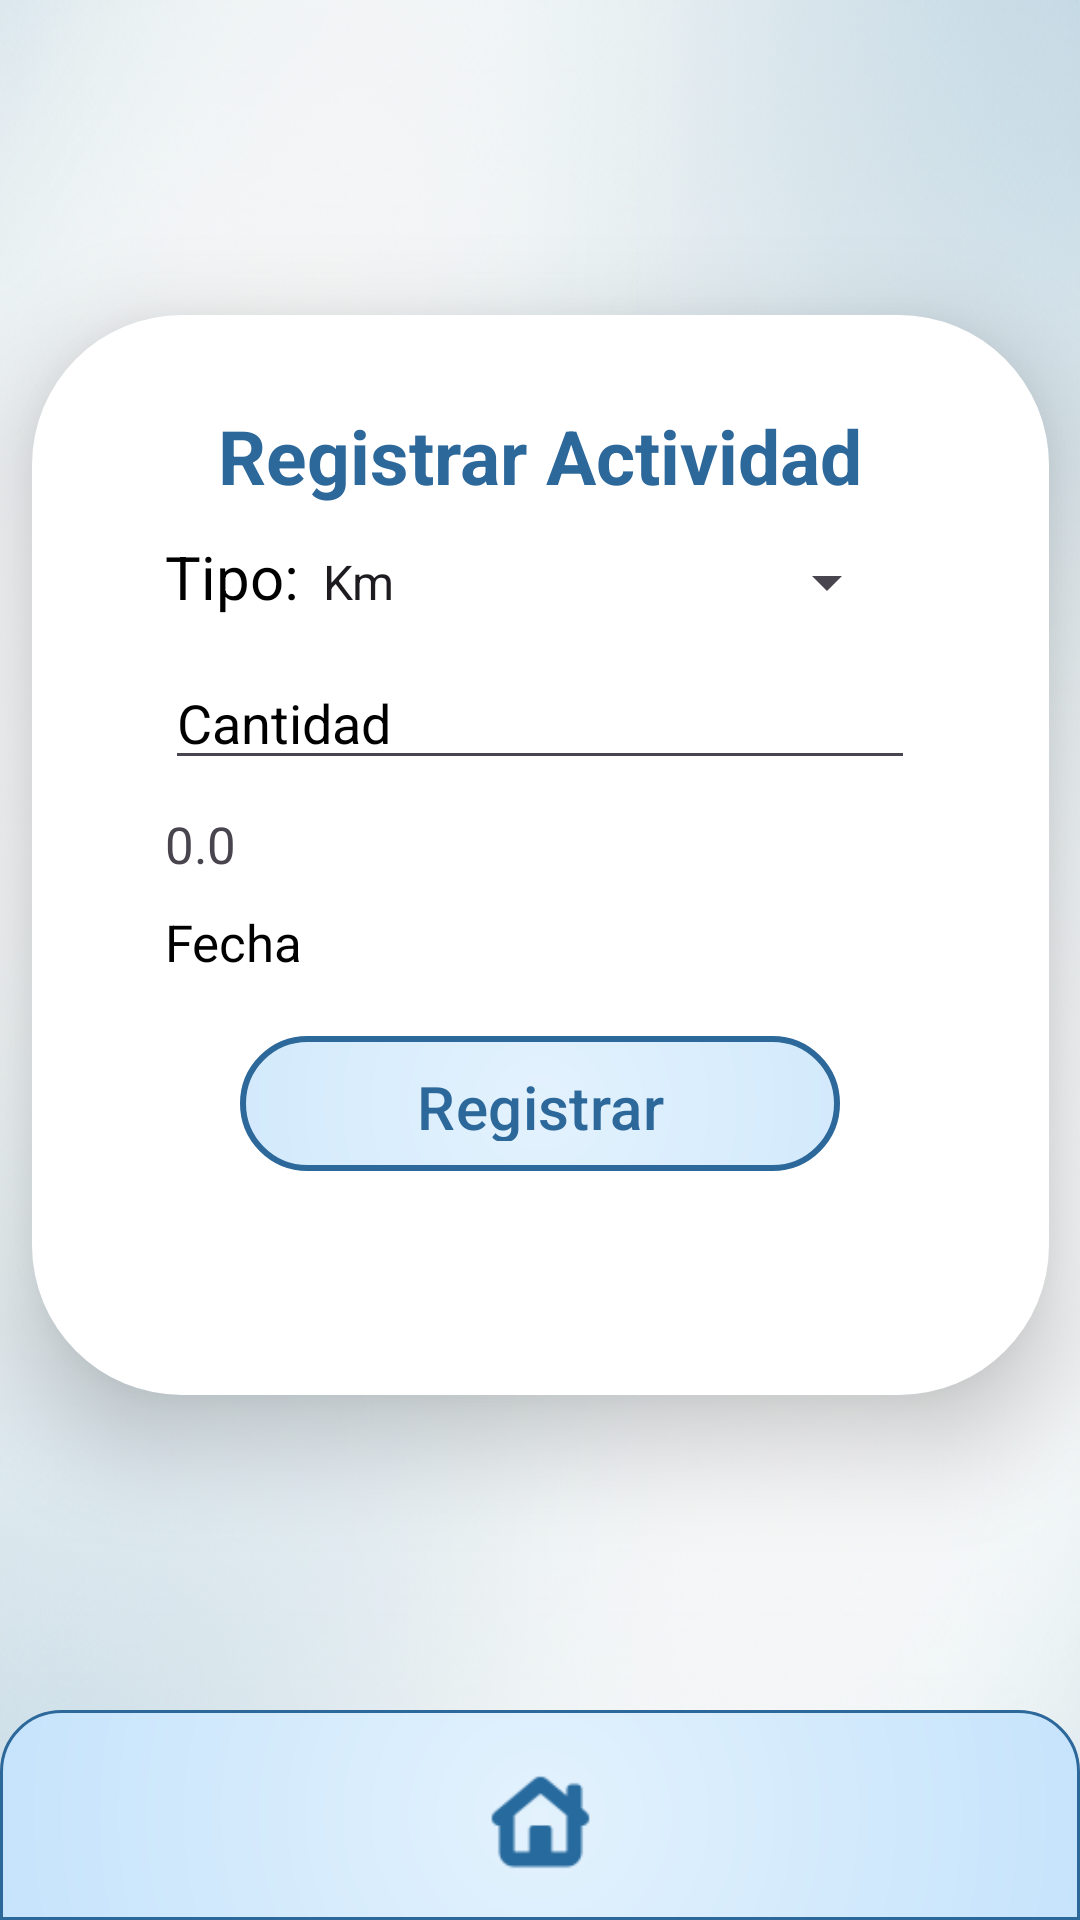

Icon bounding boxes for this 1080x1920 phone screenshot, format detection(x1, y1, x2, y2):
home: detection(491, 1776, 590, 1868)
